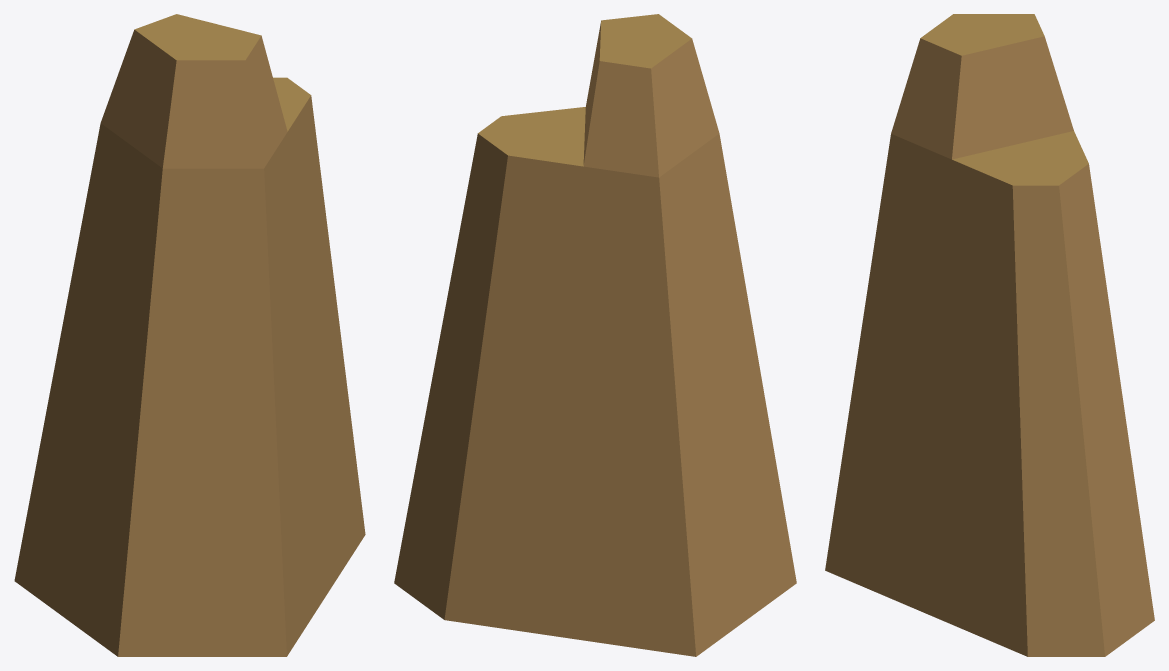
Rendered from ds_rock_b.glb.
3 renders of one model, left to right at view 1: azimuth 30°, elevation 25°; view 2: azimuth 150°, elevation 25°; view 3: azimuth 270°, elevation 25°, orthographic. The views are drawn at different scales.
Visible parts, largest first — view 1: ds_rock_b; view 2: ds_rock_b; view 3: ds_rock_b.
Boxes of the visible parts, x1=… form: ds_rock_b: x1=14, y1=14, x2=365, y2=656; ds_rock_b: x1=394, y1=14, x2=796, y2=656; ds_rock_b: x1=825, y1=14, x2=1154, y2=656.
Bounding box in the file's own units: 1.4 × 2.4 × 1.34.
